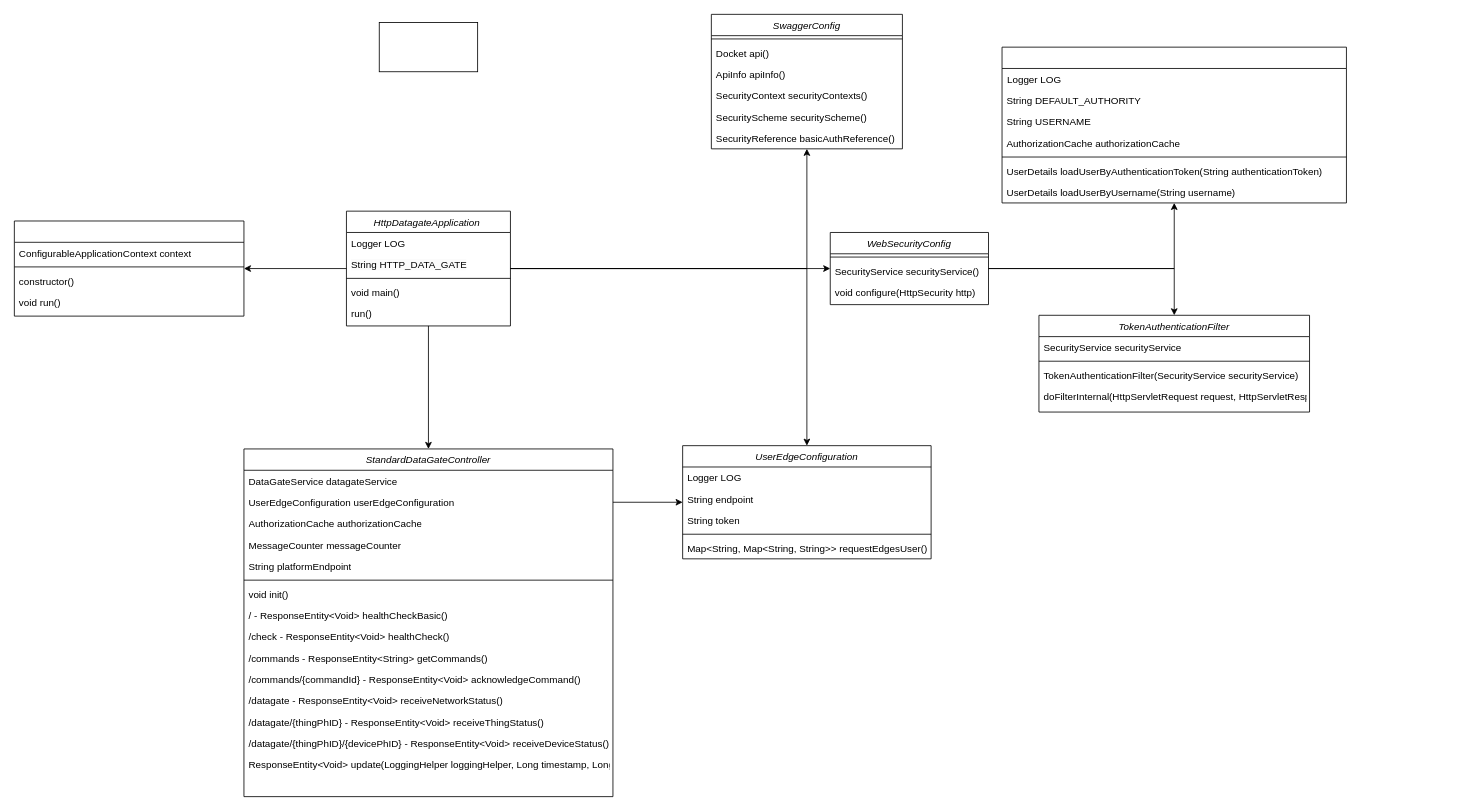
Some shapes in this 1471 by 811 pixel diagram are drawn without their labels. Each missing label, with the box of its shape:
DataGate Http: (378, 22, 478, 72)
SecurityService: (1001, 46, 1346, 203)
ShutdownHook: (14, 220, 244, 316)
